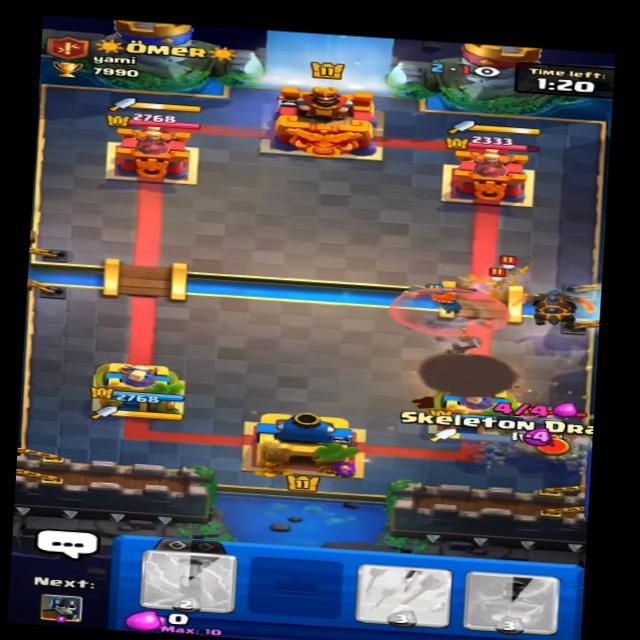goblin-drill: (506, 401, 587, 459)
skeleton: (485, 264, 519, 295), (495, 253, 526, 277)
